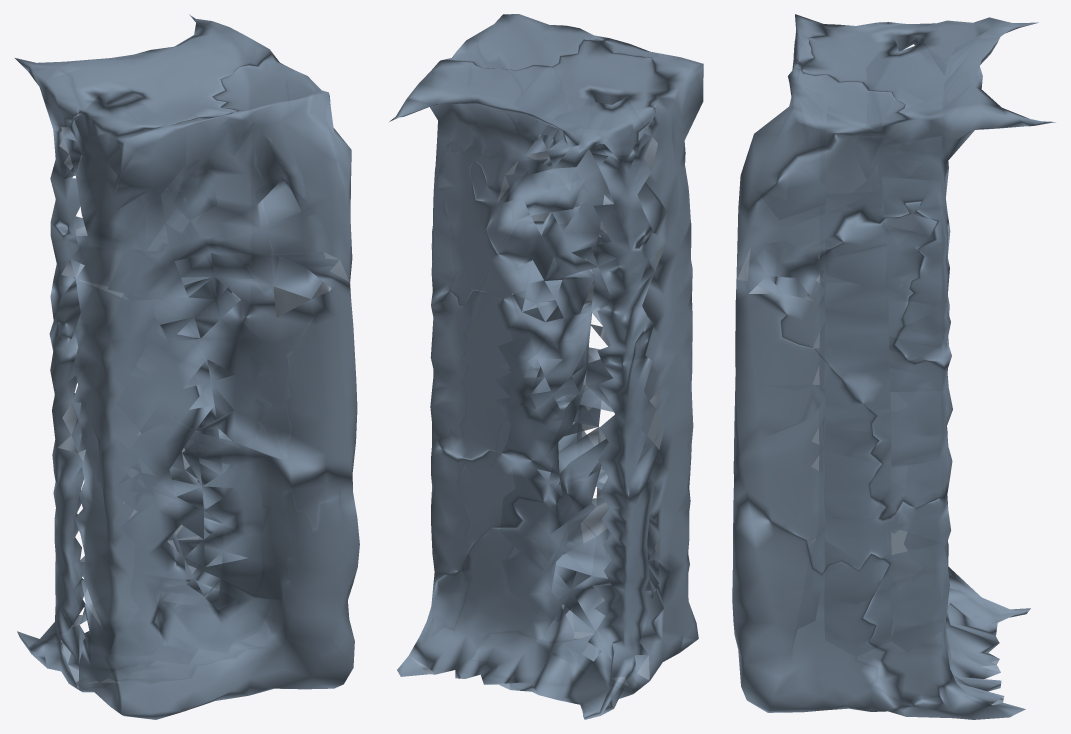
The model's file is sofa_0069_recon.obj.
3 renders of one model, left to right at view 1: azimuth 30°, elevation 25°; view 2: azimuth 150°, elevation 25°; view 3: azimuth 270°, elevation 25°, orthographic. The views are drawn at different scales.
Size of the model in its own units: 0.6736 by 1.74 by 0.8395.
